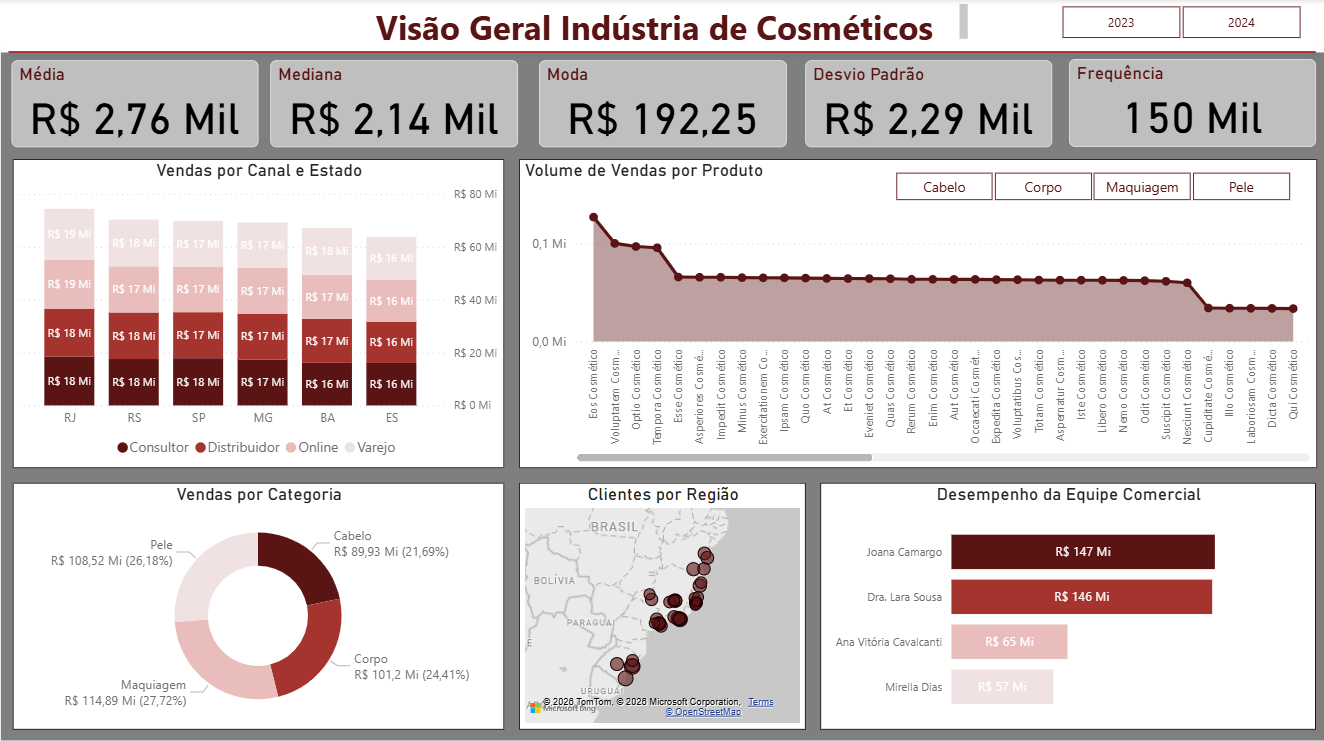

This screenshot's page, from the dashboard's own definition file:
{"tool":"powerbi","page":{"name":"Visão Geral ","canvas":[1280,720],"ordinal":0},"visuals":[{"type":"slicer","fields":{"Values":["DimCalendario.Ano"]},"box":[1000,0,280,44.3],"z":0},{"type":"shape","box":[0,40,1280,22.9],"z":1000},{"type":"card","title":"Média","fields":{"Values":["Medidas.01 Média Venda"]},"box":[12.1,59.2,238,83.8],"z":2000},{"type":"card","title":"Mediana","fields":{"Values":["Medidas.02 Mediana Venda"]},"box":[262.3,59.2,239.2,83.8],"z":3000},{"type":"card","title":"Desvio Padrão","fields":{"Values":["Medidas.04 DesvioPadrao"]},"box":[778.4,59.2,238,83.8],"z":4000},{"type":"card","title":"Moda ","fields":{"Values":["Medidas.03 Moda Venda"]},"box":[521,59.2,239.2,83.8],"z":5000},{"type":"card","title":"Frequência","fields":{"Values":["Medidas.05 FrequenciaVenda"]},"box":[1032.3,58,238,85],"z":6000},{"type":"barChart","title":"Desempenho da Equipe Comercial","fields":{"Y":["Medidas.1 Total Sales"],"Series":["DimVendedores.nome_supervisor"],"Category":["DimVendedores.nome_supervisor"]},"box":[792.9,467.1,478.6,238.6],"z":7000},{"type":"donutChart","title":"Vendas por Categoria","fields":{"Category":["DimProdutos.categoria"],"Y":["Medidas.1 Total Sales"]},"box":[12.9,467.1,474.3,238.6],"z":8000},{"type":"columnChart","title":"Vendas por Canal e Estado","fields":{"Category":["DimClientes.Estado"],"Y":["Medidas.1 Total Sales"],"Series":["FactVendas.canal_venda"]},"box":[12.9,154.3,474.3,298.6],"z":9000},{"type":"map","title":"Clientes por Região","fields":{"Category":["DimClientes.Cidade"],"Size":["Medidas.4 Clients Quantity"]},"box":[501.4,467.1,277.1,238.6],"z":10000},{"type":"areaChart","title":"Volume de Vendas por Produto","fields":{"Category":["DimProdutos.nome_produto"],"Y":["Medidas.08 Volume Total"]},"box":[501.4,154.3,770,298.6],"z":11000},{"type":"slicer","fields":{"Values":["DimProdutos.categoria"]},"box":[840,160,430,36],"z":12000},{"type":"textbox","box":[341.2,0,598.8,47.5],"z":13000}]}

Visuals, with their boxes in screenshot pixels (x1, y1, x2, y2), scaled from the page's 1280x720 canvas onto the 1324x741 screenshot:
slicer - DimCalendario.Ano: (1034,0,1323,46)
shape: (0,41,1323,65)
"Média" card: (13,61,259,147)
"Mediana" card: (271,61,519,147)
"Desvio Padrão" card: (805,61,1051,147)
"Moda " card: (539,61,786,147)
"Frequência" card: (1068,60,1314,147)
"Desempenho da Equipe Comercial" barChart: (820,481,1315,726)
"Vendas por Categoria" donutChart: (13,481,504,726)
"Vendas por Canal e Estado" columnChart: (13,159,504,466)
"Clientes por Região" map: (519,481,805,726)
"Volume de Vendas por Produto" areaChart: (519,159,1315,466)
slicer - DimProdutos.categoria: (869,165,1314,202)
textbox: (353,0,972,49)
